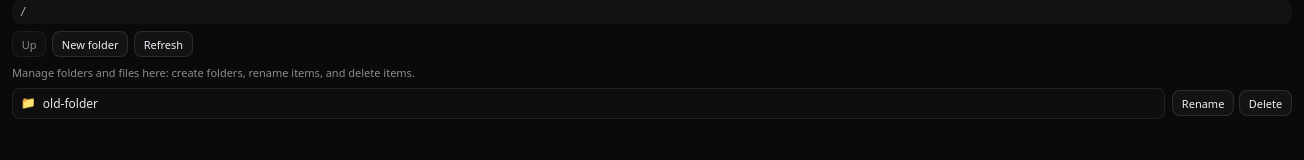
Test: WorkspaceFilePanel - Folder Operations Unit Tests › Folder rename pre-fills current name (Requirement 5.1, 5.2) › should rename folder when user provides new name
The image size is (1304, 160).
Check: the text "old-folder" is shown, box x1=43 y1=95 x2=98 y2=112
Click the button "Rename" at {"x": 1203, "y": 103}, box x1=1172 y1=90 x2=1234 y2=116
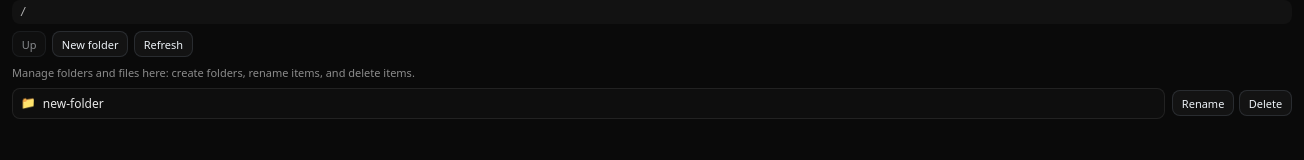
Check: the text "new-folder" is shown, box x1=43 y1=95 x2=104 y2=112
Check: the button "old-folder" is gone
